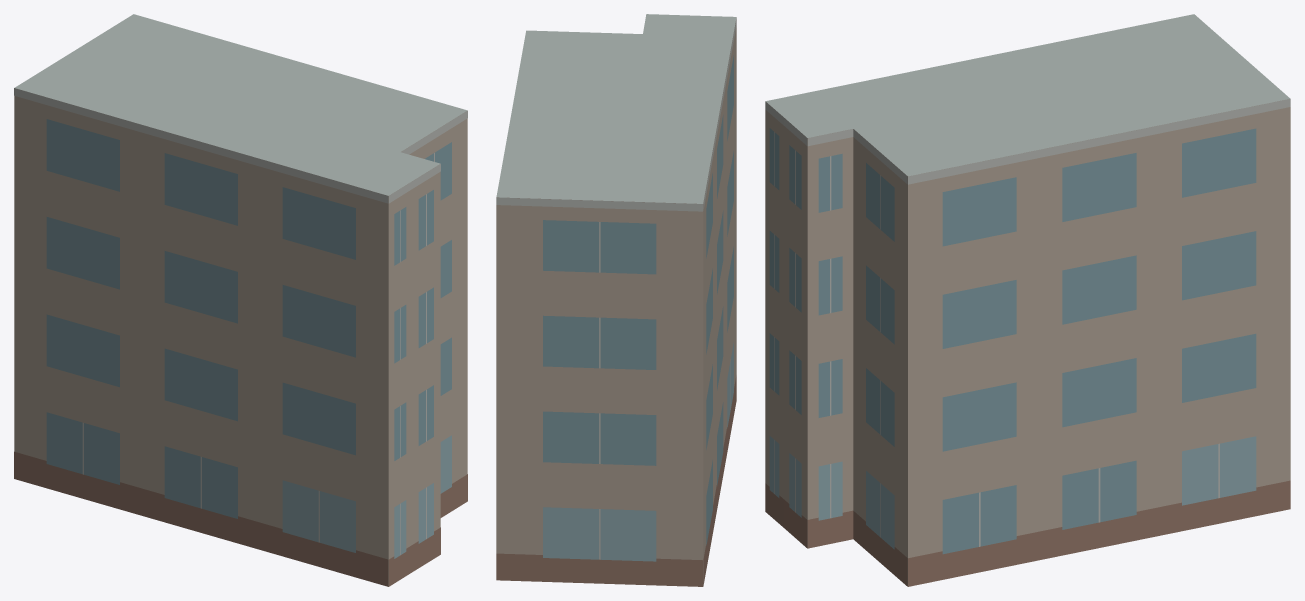
File: residential-feb5dc84-1ad7-45c2-9f0c-1325241c404f.glb
The picture shows the model from 3 angles, left to right: view 1: azimuth 30°, elevation 25°; view 2: azimuth 150°, elevation 25°; view 3: azimuth 270°, elevation 25°; orthographic projection. The views are drawn at different scales.
Parts seen in each view (by area): view 1: residential-feb5dc84-1ad7-45c2-9f0c-1325241c404f.tmp; view 2: residential-feb5dc84-1ad7-45c2-9f0c-1325241c404f.tmp; view 3: residential-feb5dc84-1ad7-45c2-9f0c-1325241c404f.tmp.
Part boxes in pixels (x1,y1,x2,y2): residential-feb5dc84-1ad7-45c2-9f0c-1325241c404f.tmp: (14, 14, 467, 586); residential-feb5dc84-1ad7-45c2-9f0c-1325241c404f.tmp: (496, 14, 736, 586); residential-feb5dc84-1ad7-45c2-9f0c-1325241c404f.tmp: (765, 14, 1290, 586).
Bounding box in the file's own units: 10.37 × 12.2 × 14.16.
